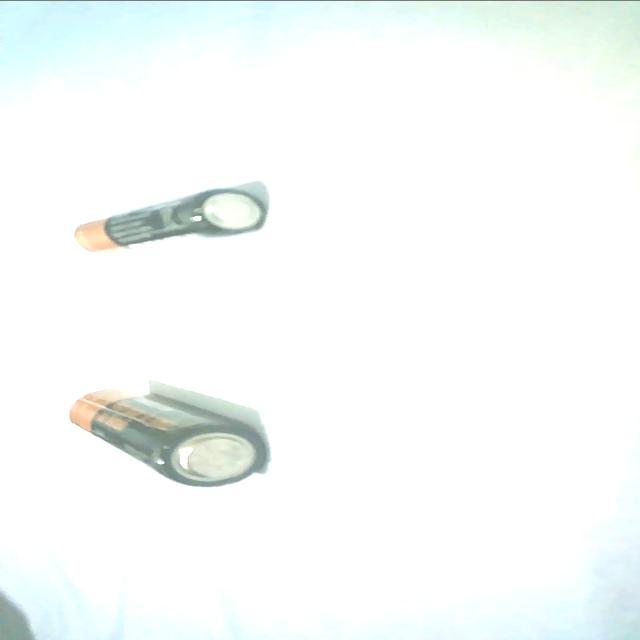AA: (60, 382, 272, 491)
AAA: (65, 184, 274, 258)
